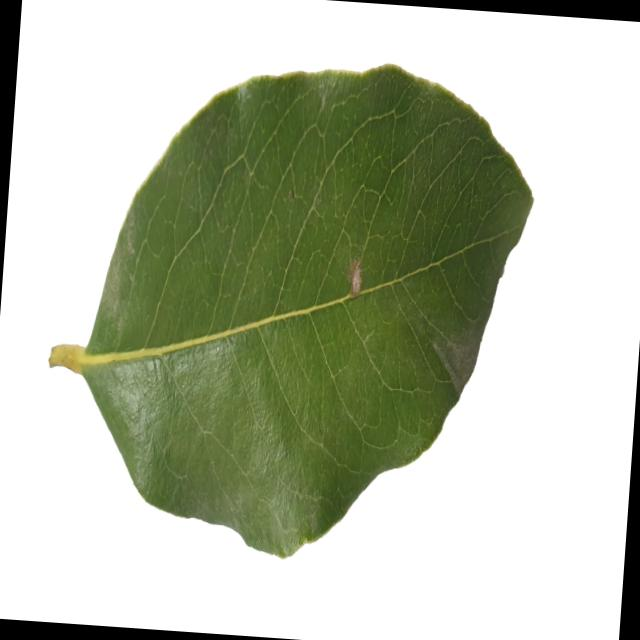Medicinal-Sandalwood: (37, 42, 542, 576)
